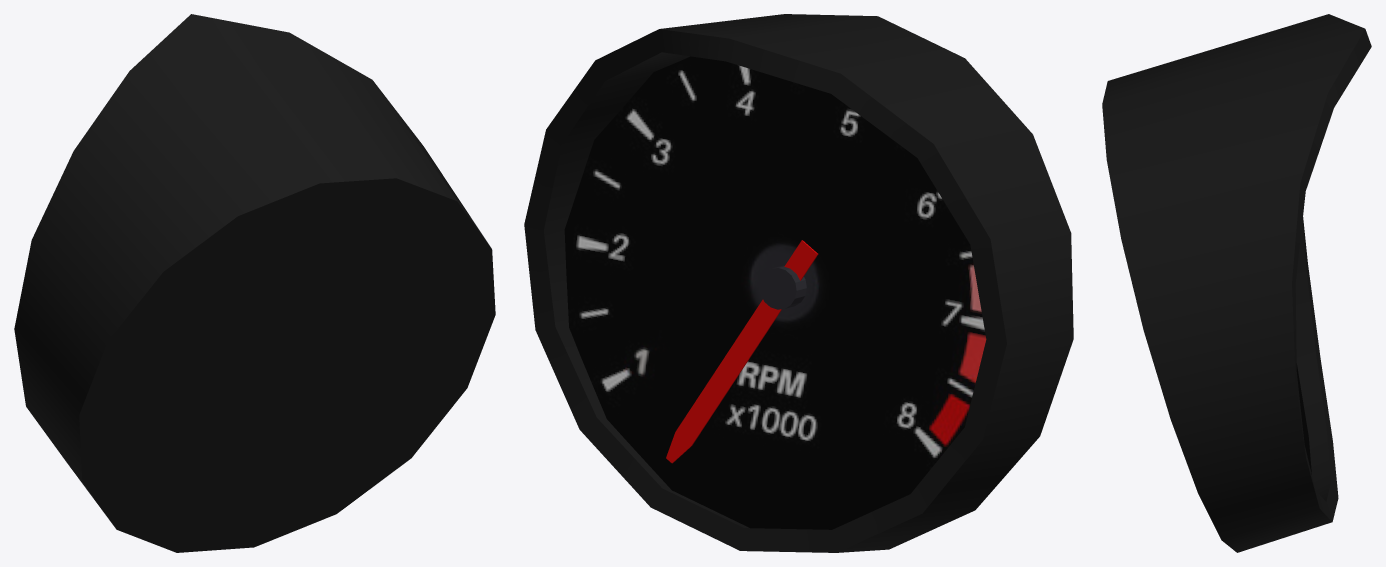
The model's file is left_fix.fbx.
3 views of the same model, side by side, from view 1: azimuth 30°, elevation 25°; view 2: azimuth 150°, elevation 25°; view 3: azimuth 270°, elevation 25° (orthographic). The views are drawn at different scales.
Parts seen in each view (by area): view 1: Circle.001; view 2: Circle.005, Circle.001, Circle.009; view 3: Circle.001, Circle.005.
Boxes of the visible parts, x1,y1,x2,y2 form: Circle.001: [14, 14, 495, 552]; Circle.005: [564, 56, 986, 529]; Circle.001: [524, 14, 1073, 552]; Circle.009: [666, 240, 818, 463]; Circle.001: [1102, 14, 1371, 552]; Circle.005: [1296, 363, 1311, 474].
Bounding box in the file's own units: 9.43 × 10.43 × 5.1.
